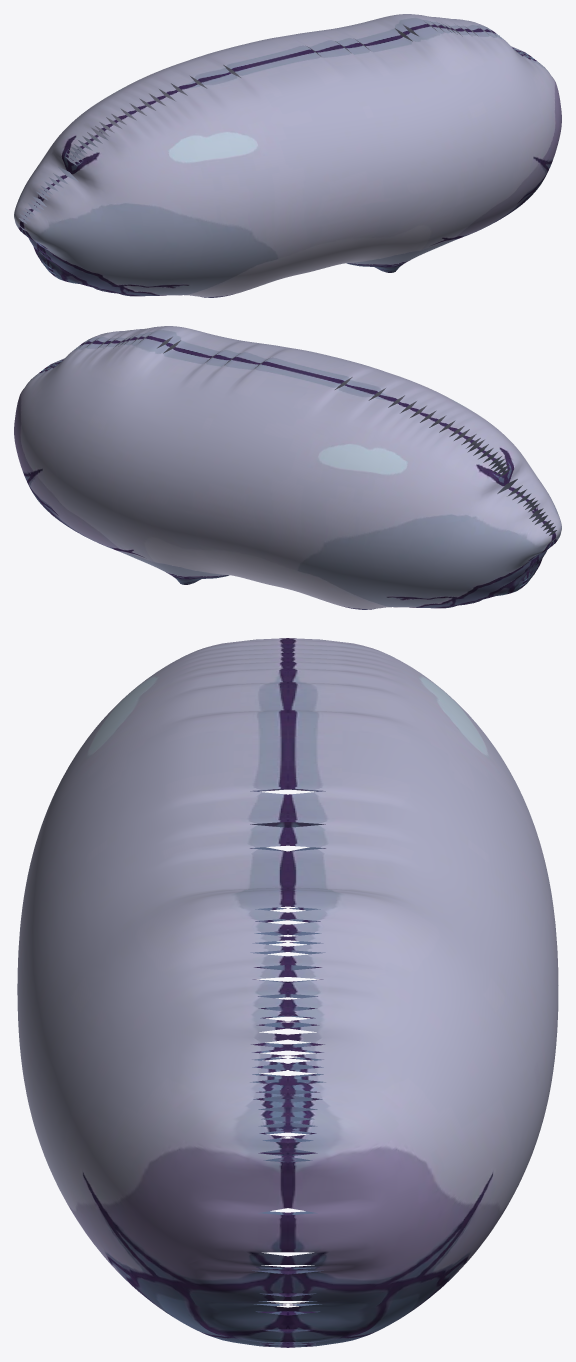
Rendered from violet_rock_ledge.glb.
3 views of the same model, one above another, from view 1: azimuth 30°, elevation 25°; view 2: azimuth 150°, elevation 25°; view 3: azimuth 270°, elevation 25° (orthographic). The views are drawn at different scales.
Visible parts, largest first — view 1: violet_rock_ledge; view 2: violet_rock_ledge; view 3: violet_rock_ledge.
Part boxes in pixels (<box>): violet_rock_ledge: <box>14,14,561,297</box>; violet_rock_ledge: <box>14,326,561,609</box>; violet_rock_ledge: <box>17,638,558,1347</box>.
Size of the model in its own units: 0.9889 by 0.3807 by 0.4413.
1 material, 1 textured.
